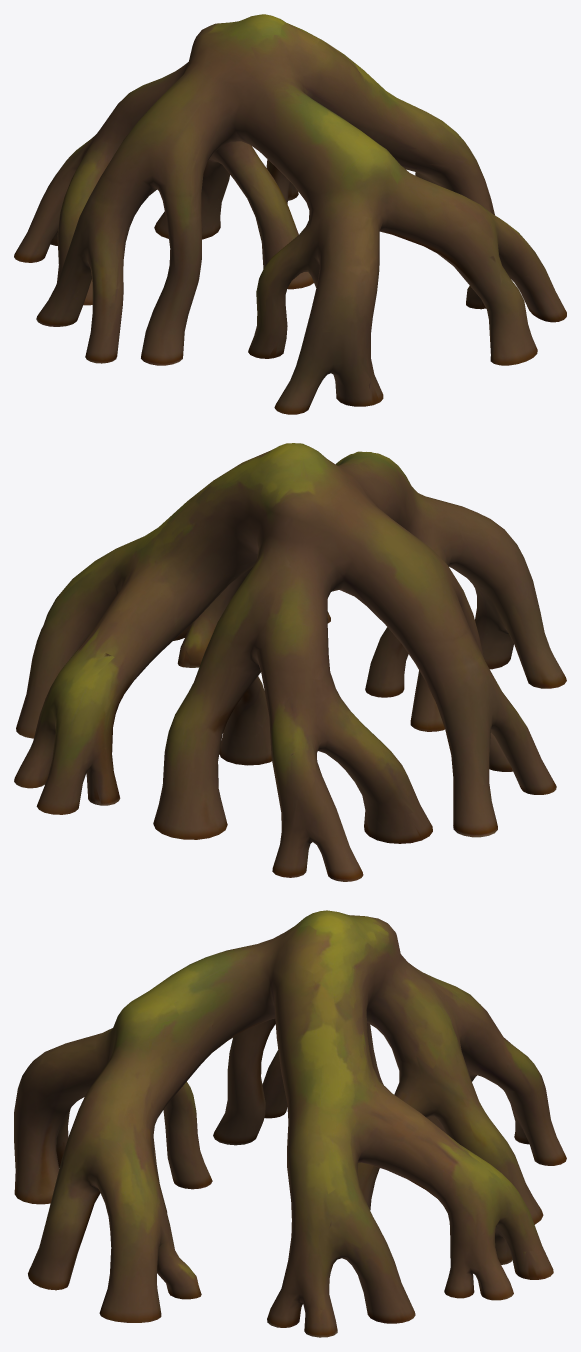
Rendered from Roots_A.fbx.
The picture shows the model from 3 angles, top to bottom: view 1: azimuth 30°, elevation 25°; view 2: azimuth 150°, elevation 25°; view 3: azimuth 270°, elevation 25°; orthographic projection. The views are drawn at different scales.
Parts seen in each view (by area): view 1: Roots_A; view 2: Roots_A; view 3: Roots_A.
Boxes of the visible parts, bbox=[...] form: Roots_A: bbox=[14, 14, 566, 414]; Roots_A: bbox=[14, 443, 566, 881]; Roots_A: bbox=[14, 910, 566, 1337].
Size of the model in its own units: 3.18 by 1.91 by 3.2.
